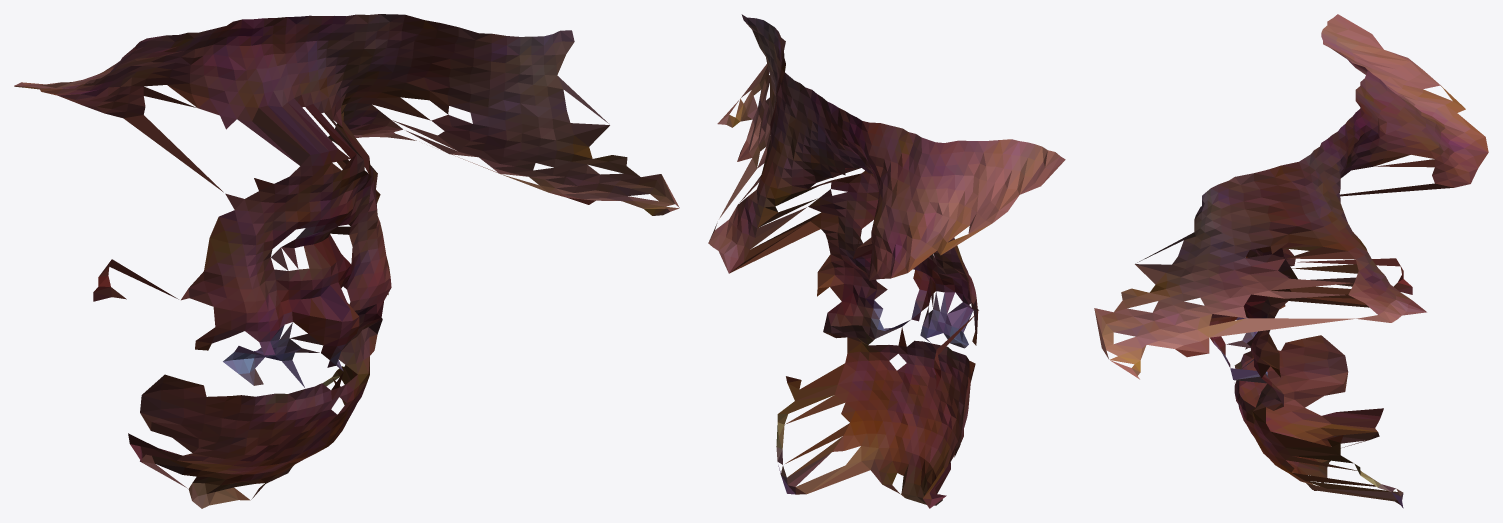
3 renders of one model, left to right at view 1: azimuth 30°, elevation 25°; view 2: azimuth 150°, elevation 25°; view 3: azimuth 270°, elevation 25°, orthographic. The views are drawn at different scales.
Parts seen in each view (by area): view 1: ofMesh; view 2: ofMesh; view 3: ofMesh.
Part boxes in pixels (x1=…): ofMesh: x1=14, y1=14, x2=679, y2=508; ofMesh: x1=708, y1=14, x2=1065, y2=508; ofMesh: x1=1094, y1=14, x2=1488, y2=508.
Size of the model in its own units: 348 by 288 by 264.
1 material, 1 textured.
